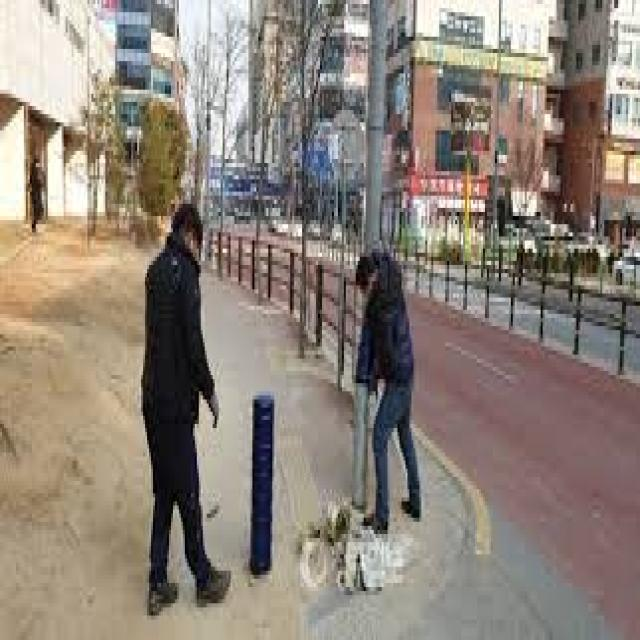bollard: (247, 383, 284, 594)
